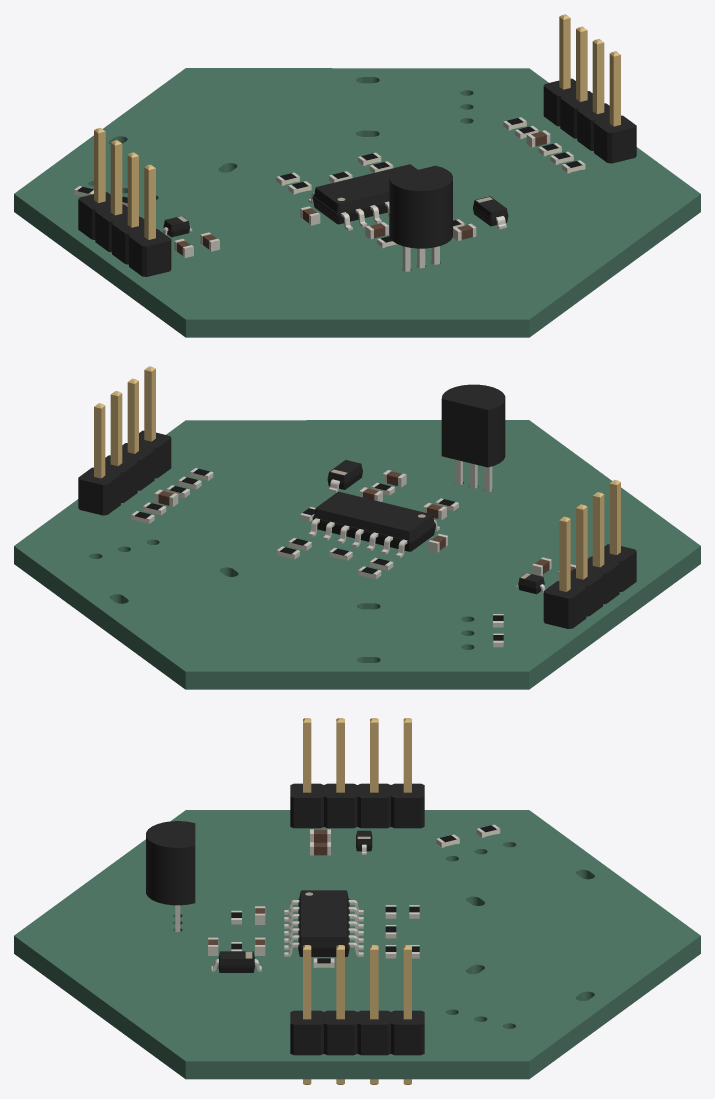
File: Oscillator.glb
3 views of the same model, one above another, from view 1: azimuth 30°, elevation 25°; view 2: azimuth 150°, elevation 25°; view 3: azimuth 270°, elevation 25° (orthographic).
Parts seen in each view (by area): view 1: =>[0:1:1:16], =>[0:1:1:3] (×2), =>[0:1:1:9], =>[0:1:1:13], =>[0:1:1:11]; view 2: =>[0:1:1:16], =>[0:1:1:3] (×2), =>[0:1:1:9], =>[0:1:1:13], =>[0:1:1:11]; view 3: =>[0:1:1:16], =>[0:1:1:3] (×2), =>[0:1:1:13], =>[0:1:1:9], =>[0:1:1:11].
Part boxes in pixels (bbox=[...]): =>[0:1:1:16]: bbox=[14, 68, 700, 337]; =>[0:1:1:3] (×2): bbox=[78, 14, 636, 276]; =>[0:1:1:9]: bbox=[389, 165, 452, 271]; =>[0:1:1:13]: bbox=[308, 164, 417, 230]; =>[0:1:1:11]: bbox=[473, 196, 508, 229]; =>[0:1:1:16]: bbox=[14, 420, 700, 689]; =>[0:1:1:3] (×2): bbox=[78, 366, 636, 628]; =>[0:1:1:9]: bbox=[441, 384, 505, 491]; =>[0:1:1:13]: bbox=[308, 491, 439, 558]; =>[0:1:1:11]: bbox=[327, 460, 362, 492]; =>[0:1:1:16]: bbox=[14, 810, 700, 1079]; =>[0:1:1:3] (×2): bbox=[290, 718, 424, 1084]; =>[0:1:1:13]: bbox=[284, 890, 363, 956]; =>[0:1:1:9]: bbox=[146, 821, 195, 931]; =>[0:1:1:11]: bbox=[211, 951, 261, 972].
Size of the model in its own units: 0.045 by 0.0115 by 0.052.
